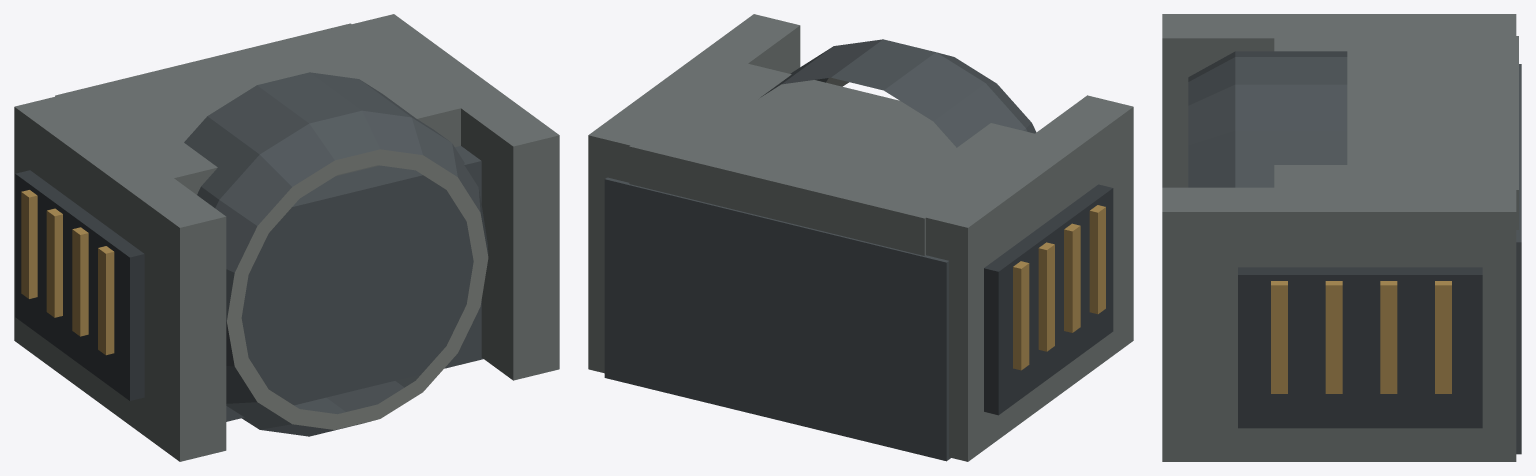
The model's file is GatlingTurretHead.obj.
3 views of the same model, side by side, from view 1: azimuth 30°, elevation 25°; view 2: azimuth 150°, elevation 25°; view 3: azimuth 270°, elevation 25° (orthographic). The views are drawn at different scales.
Visible parts, largest first — view 1: GatlingTurretHead; view 2: GatlingTurretHead; view 3: GatlingTurretHead.
Part boxes in pixels (bbox=[...]): GatlingTurretHead: bbox=[14, 14, 559, 461]; GatlingTurretHead: bbox=[588, 14, 1133, 461]; GatlingTurretHead: bbox=[1162, 14, 1521, 461].
Bounding box in the file's own units: 2.02 × 1.42 × 1.38.
Materials: 1 (1 with a texture image).
